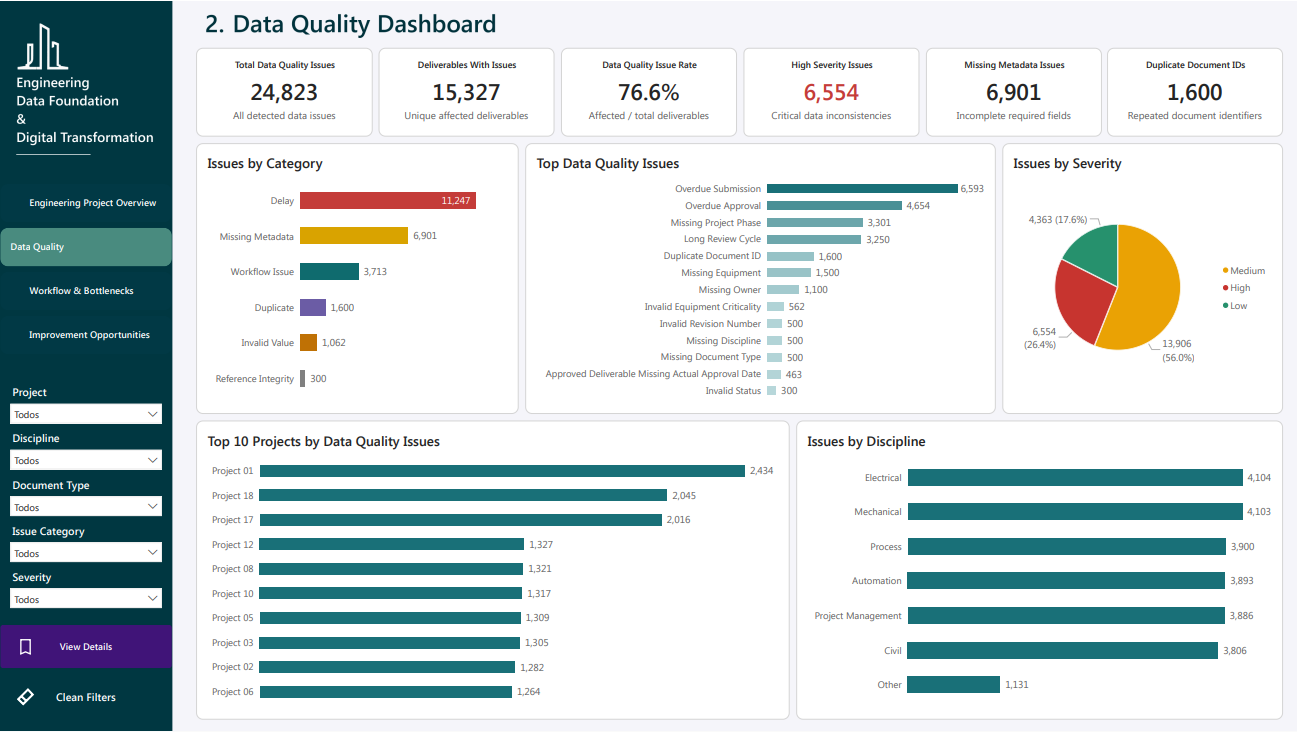

The page's visual inventory and layout, read from the dashboard file:
{"tool":"powerbi","page":{"name":"Data Quality","canvas":[1920,1080],"ordinal":1},"visuals":[{"type":"pageNavigator","box":[0,270,254,252],"z":0},{"type":"card","title":"Missing Metadata Issues","fields":{"Values":["Medidas.MissingMetadataIssues"]},"box":[1369.9,68.9,260,131],"z":1000},{"type":"card","title":"Data Quality Issue Rate","fields":{"Values":["Medidas.DataQualityIssueRate"]},"box":[829.9,68.9,260,131],"z":2000},{"type":"card","title":"High Severity Issues","fields":{"Values":["Medidas.HighSeverityIssues"]},"box":[1099.9,68.9,260,131],"z":3000},{"type":"card","title":"Duplicate Document IDs","fields":{"Values":["Medidas.DuplicateDocumentIDs"]},"box":[1638,68.9,260,131],"z":4000},{"type":"card","title":"Total Data Quality Issues","fields":{"Values":["Medidas.TotalDataQualityIssues"]},"box":[290,68.8,261.2,131.2],"z":5000},{"type":"card","title":"Deliverables With Issues","fields":{"Values":["Medidas.DeliverablesWithIssues"]},"box":[559.9,68.9,260,131],"z":6000},{"type":"actionButton","box":[0,992.5,253.8,70],"z":7000},{"type":"slicer","fields":{"Values":["vw_deliverables_overview.discipline_name"]},"box":[0,635.3,254.2,68.3],"z":8000},{"type":"slicer","fields":{"Values":["vw_deliverables_overview.project_name"]},"box":[0,567,254.2,68.3],"z":9000},{"type":"slicer","fields":{"Values":["vw_deliverables_overview.document_type_name"]},"box":[0,703.7,254.2,68.3],"z":10000},{"type":"slicer","fields":{"Values":["vw_data_quality_issue_rows.issue_category"]},"box":[0,772,254.2,68.3],"z":11000},{"type":"slicer","fields":{"Values":["vw_data_quality_issue_rows.Severity Adjusted"]},"box":[0,840,254,78],"z":12000},{"type":"clusteredBarChart","title":"Issues by Category","fields":{"Y":["Medidas.TotalDataQualityIssues"],"Category":["vw_data_quality_issue_rows.issue_category"]},"box":[290,210,477.1,400],"z":13000},{"type":"clusteredBarChart","title":"Top Data Quality Issues","fields":{"Y":["Medidas.TotalDataQualityIssues"],"Category":["vw_data_quality_issue_rows.issue_type"]},"box":[776.7,210,696.7,400],"z":14000},{"type":"pieChart","title":"Issues by Severity","fields":{"Y":["Medidas.TotalDataQualityIssues"],"Category":["vw_data_quality_issue_rows.Severity Adjusted"]},"box":[1483,210,415,400],"z":15000},{"type":"clusteredBarChart","title":"Top 10 Projects by Data Quality Issues","fields":{"Y":["Medidas.TotalDataQualityIssues"],"Category":["vw_deliverables_overview.project_name"]},"box":[290,620,878.3,441.7],"z":16000},{"type":"clusteredBarChart","title":"Issues by Discipline","fields":{"Y":["Medidas.TotalDataQualityIssues"],"Category":["vw_deliverables_overview.discipline_name"]},"box":[1178.3,620,720,441.7],"z":17000},{"type":"actionButton","box":[0,922,254,64],"z":18001}]}

Visuals, with their boxes on the page's 1920x1080 design canvas (x1, y1, x2, y2). These are canvas units, not pixel positions in the 1297x732 screenshot, which may show the page scaled, cropped or inside an application window:
pageNavigator: 0:270:254:522
"Missing Metadata Issues" card: 1370:69:1630:200
"Data Quality Issue Rate" card: 830:69:1090:200
"High Severity Issues" card: 1100:69:1360:200
"Duplicate Document IDs" card: 1638:69:1898:200
"Total Data Quality Issues" card: 290:69:551:200
"Deliverables With Issues" card: 560:69:820:200
actionButton: 0:992:254:1062
slicer - vw_deliverables_overview.discipline_name: 0:635:254:704
slicer - vw_deliverables_overview.project_name: 0:567:254:635
slicer - vw_deliverables_overview.document_type_name: 0:704:254:772
slicer - vw_data_quality_issue_rows.issue_category: 0:772:254:840
slicer - vw_data_quality_issue_rows.Severity Adjusted: 0:840:254:918
"Issues by Category" clusteredBarChart: 290:210:767:610
"Top Data Quality Issues" clusteredBarChart: 777:210:1473:610
"Issues by Severity" pieChart: 1483:210:1898:610
"Top 10 Projects by Data Quality Issues" clusteredBarChart: 290:620:1168:1062
"Issues by Discipline" clusteredBarChart: 1178:620:1898:1062
actionButton: 0:922:254:986
